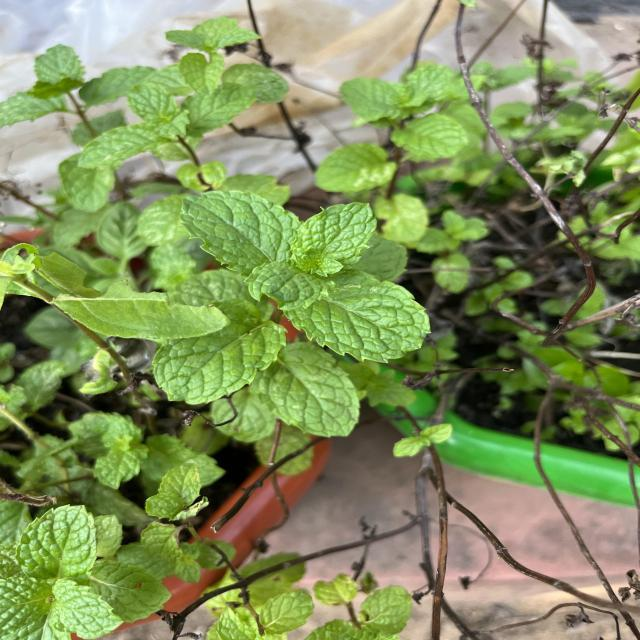Mentha spicata: (152, 298, 290, 407), (282, 267, 433, 364), (252, 342, 364, 438), (179, 190, 301, 276), (286, 201, 381, 278)
